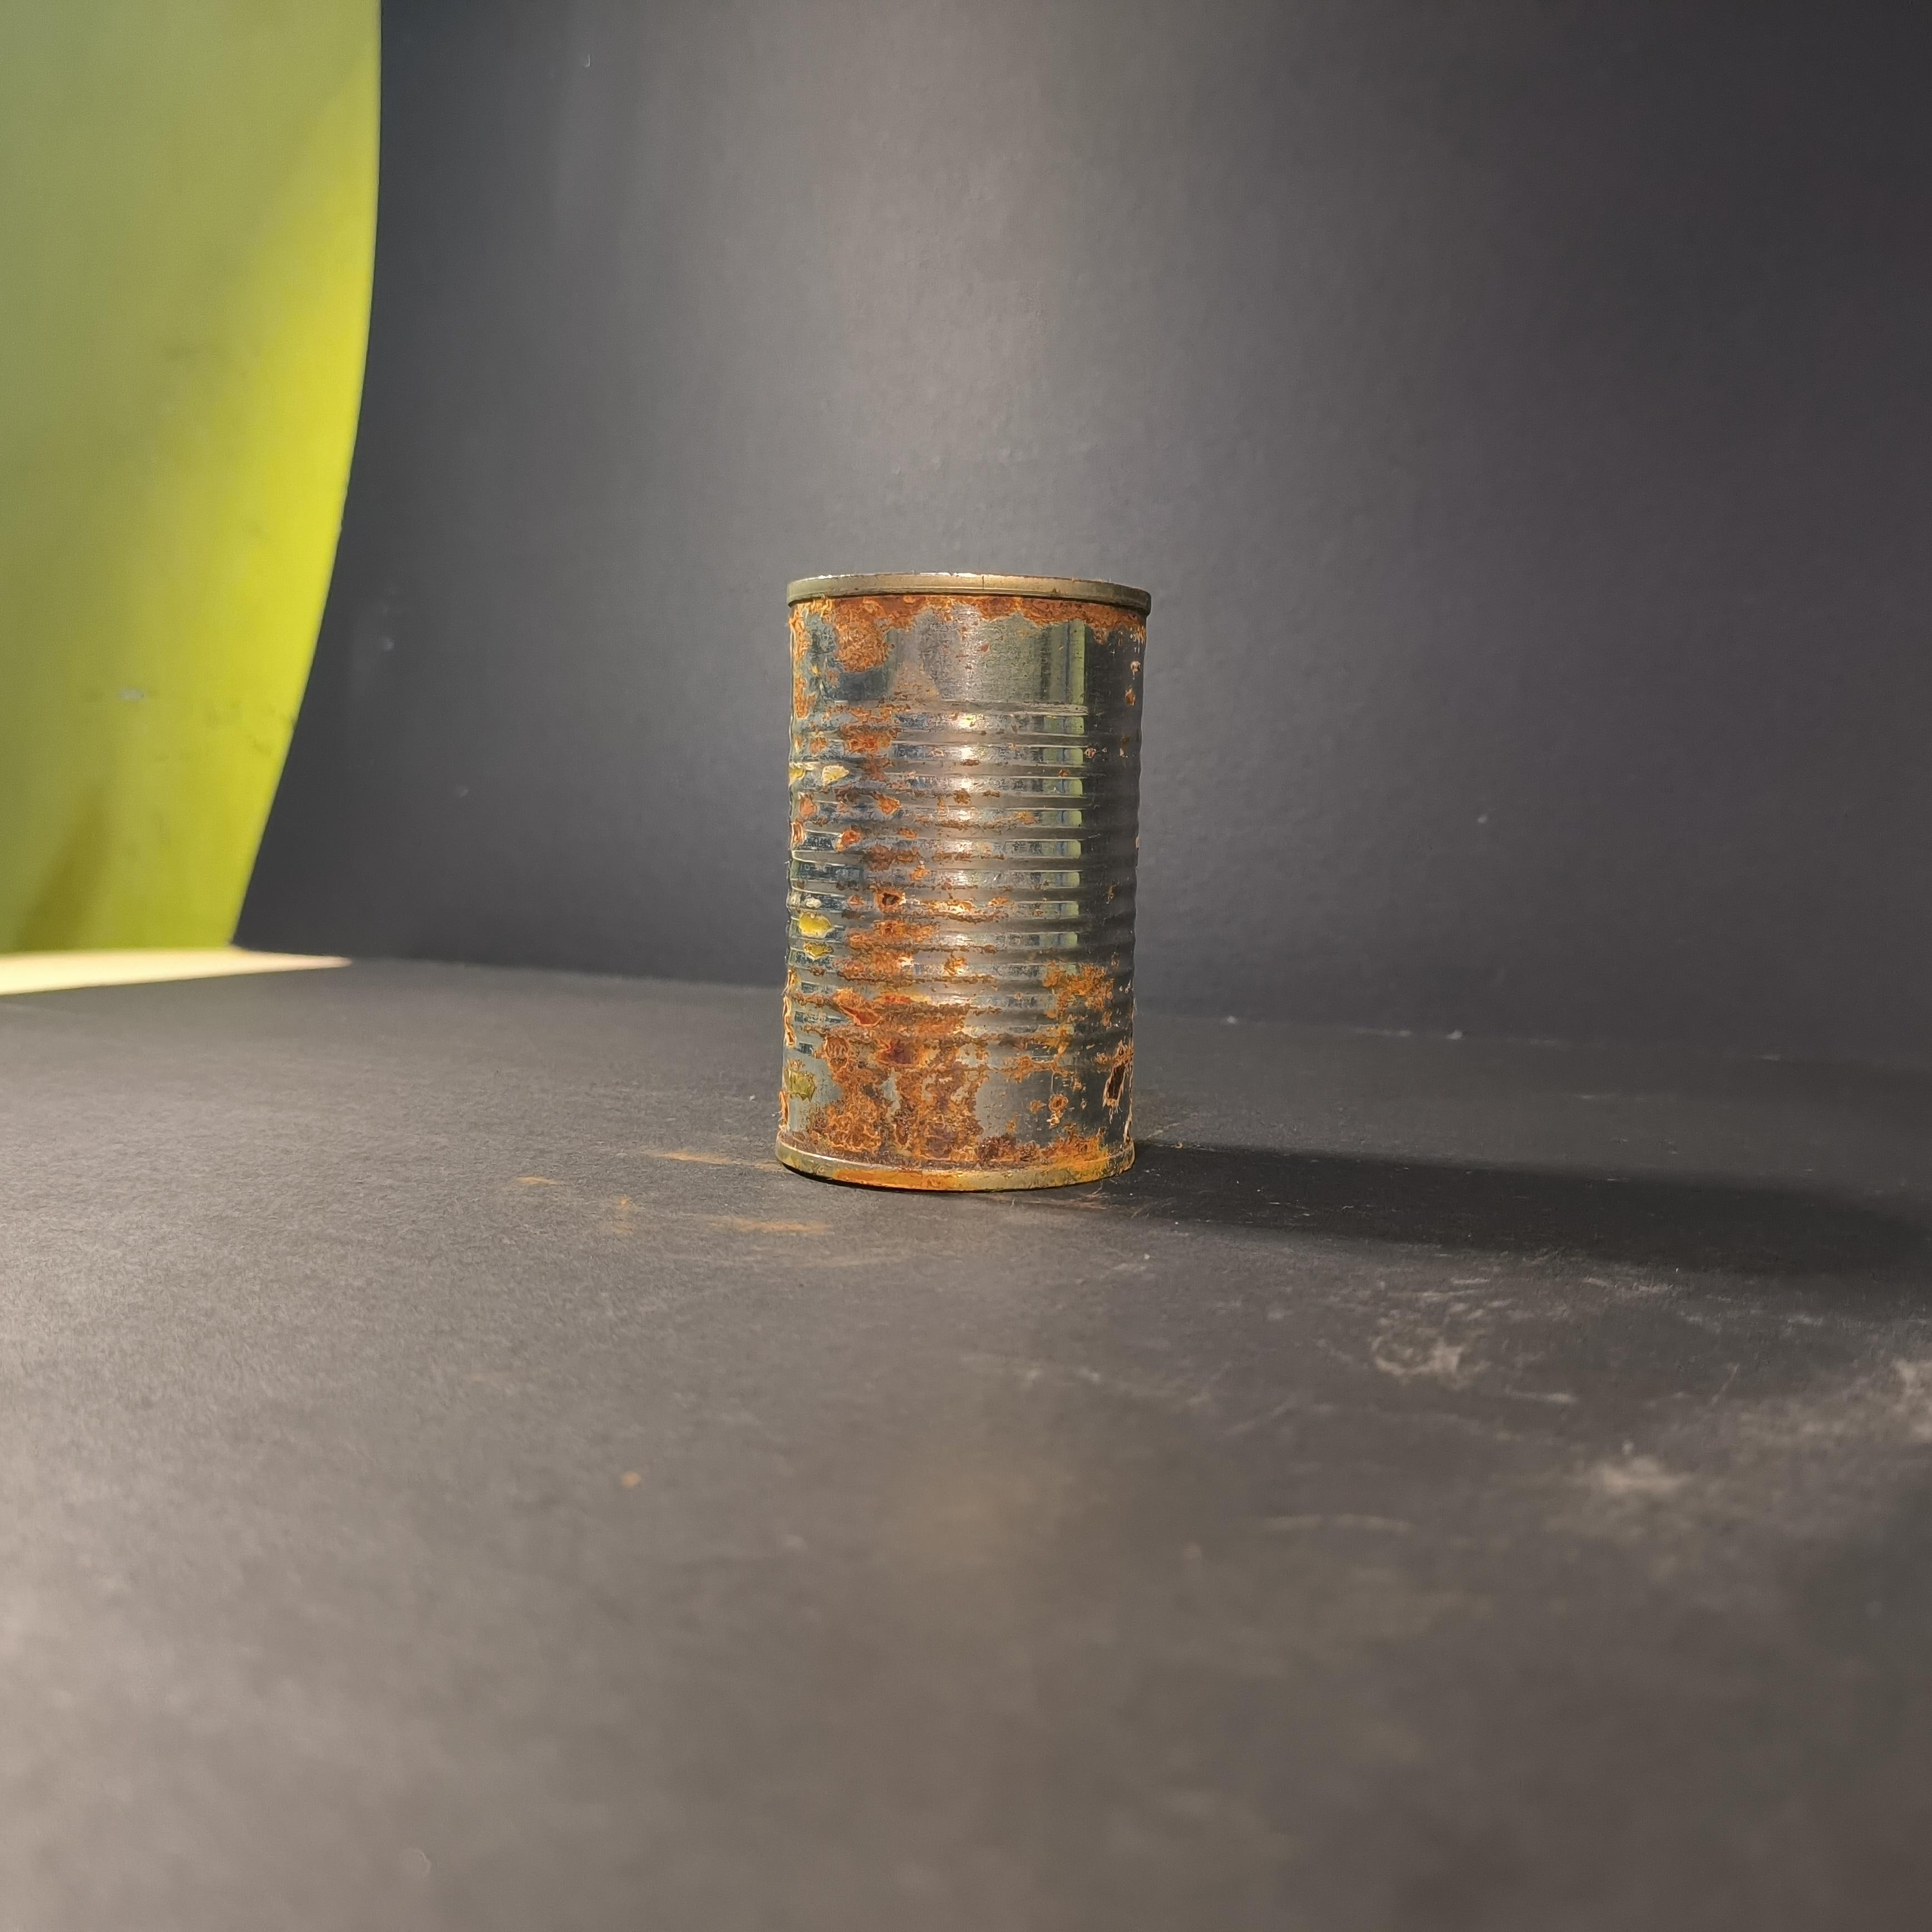Rusted: (752, 529, 1161, 1228)
